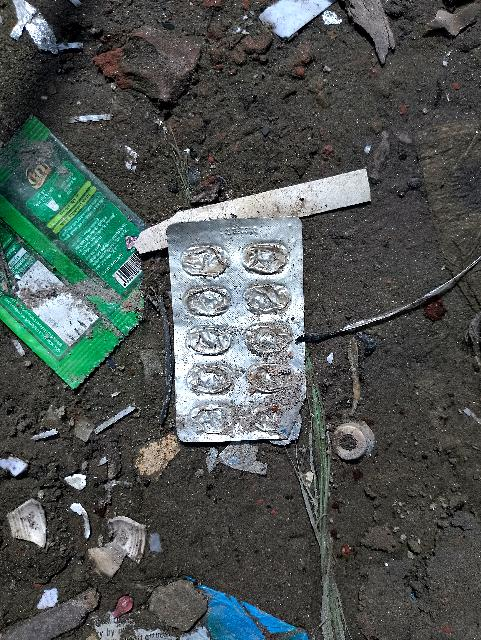medicine: (164, 211, 312, 447)
